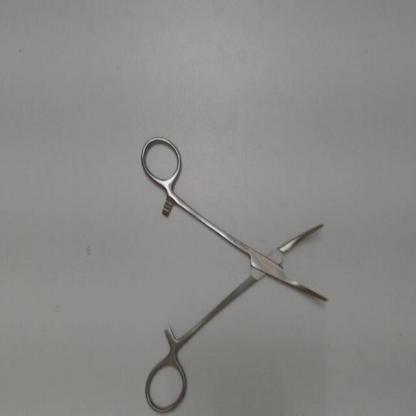Crile Artery Forceps: (132, 132, 334, 412)
